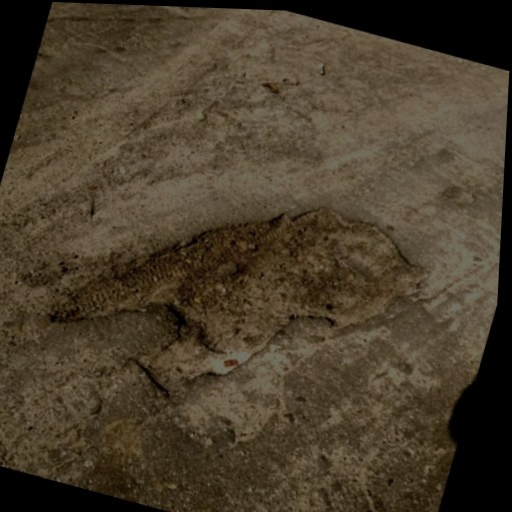pothole: (26, 136, 450, 459)
